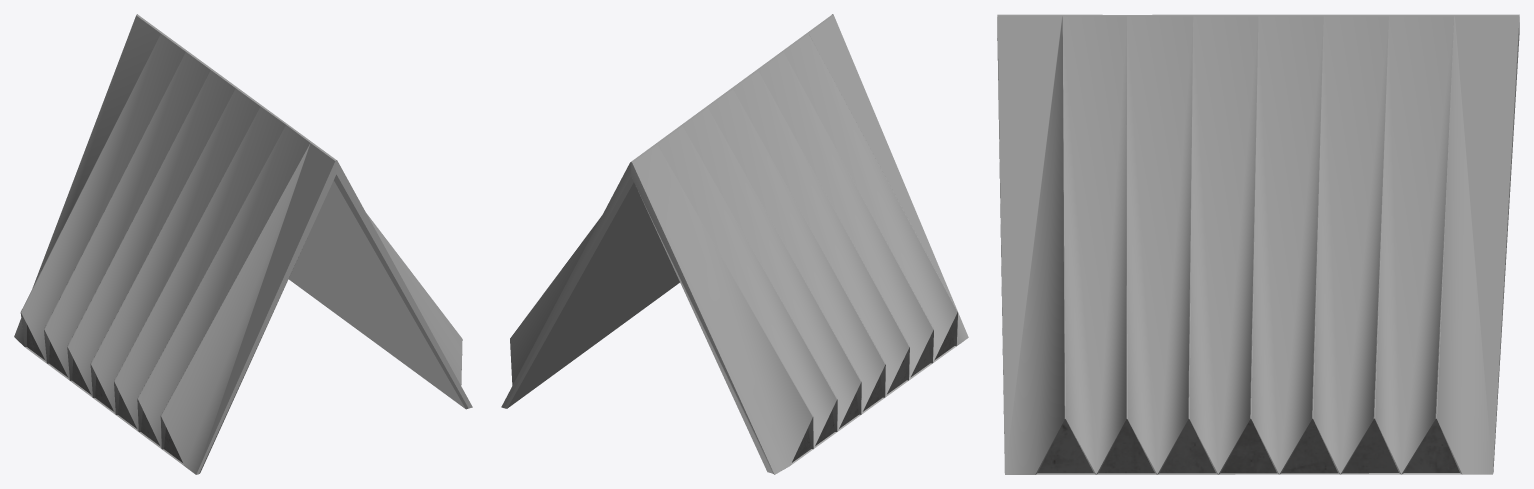
File: cathedral roof mid 1.fbx
3 views of the same model, side by side, from view 1: azimuth 30°, elevation 25°; view 2: azimuth 150°, elevation 25°; view 3: azimuth 270°, elevation 25° (orthographic). The views are drawn at different scales.
Visible parts, largest first — view 1: roof_mid; view 2: roof_mid; view 3: roof_mid.
Boxes of the visible parts, box(x1,y1,x2,y2) form: roof_mid: box(14, 14, 472, 474); roof_mid: box(501, 14, 968, 474); roof_mid: box(997, 14, 1519, 474).
Bounding box in the file's own units: 14.01 × 12.62 × 16.04.
3 materials, 1 textured.
